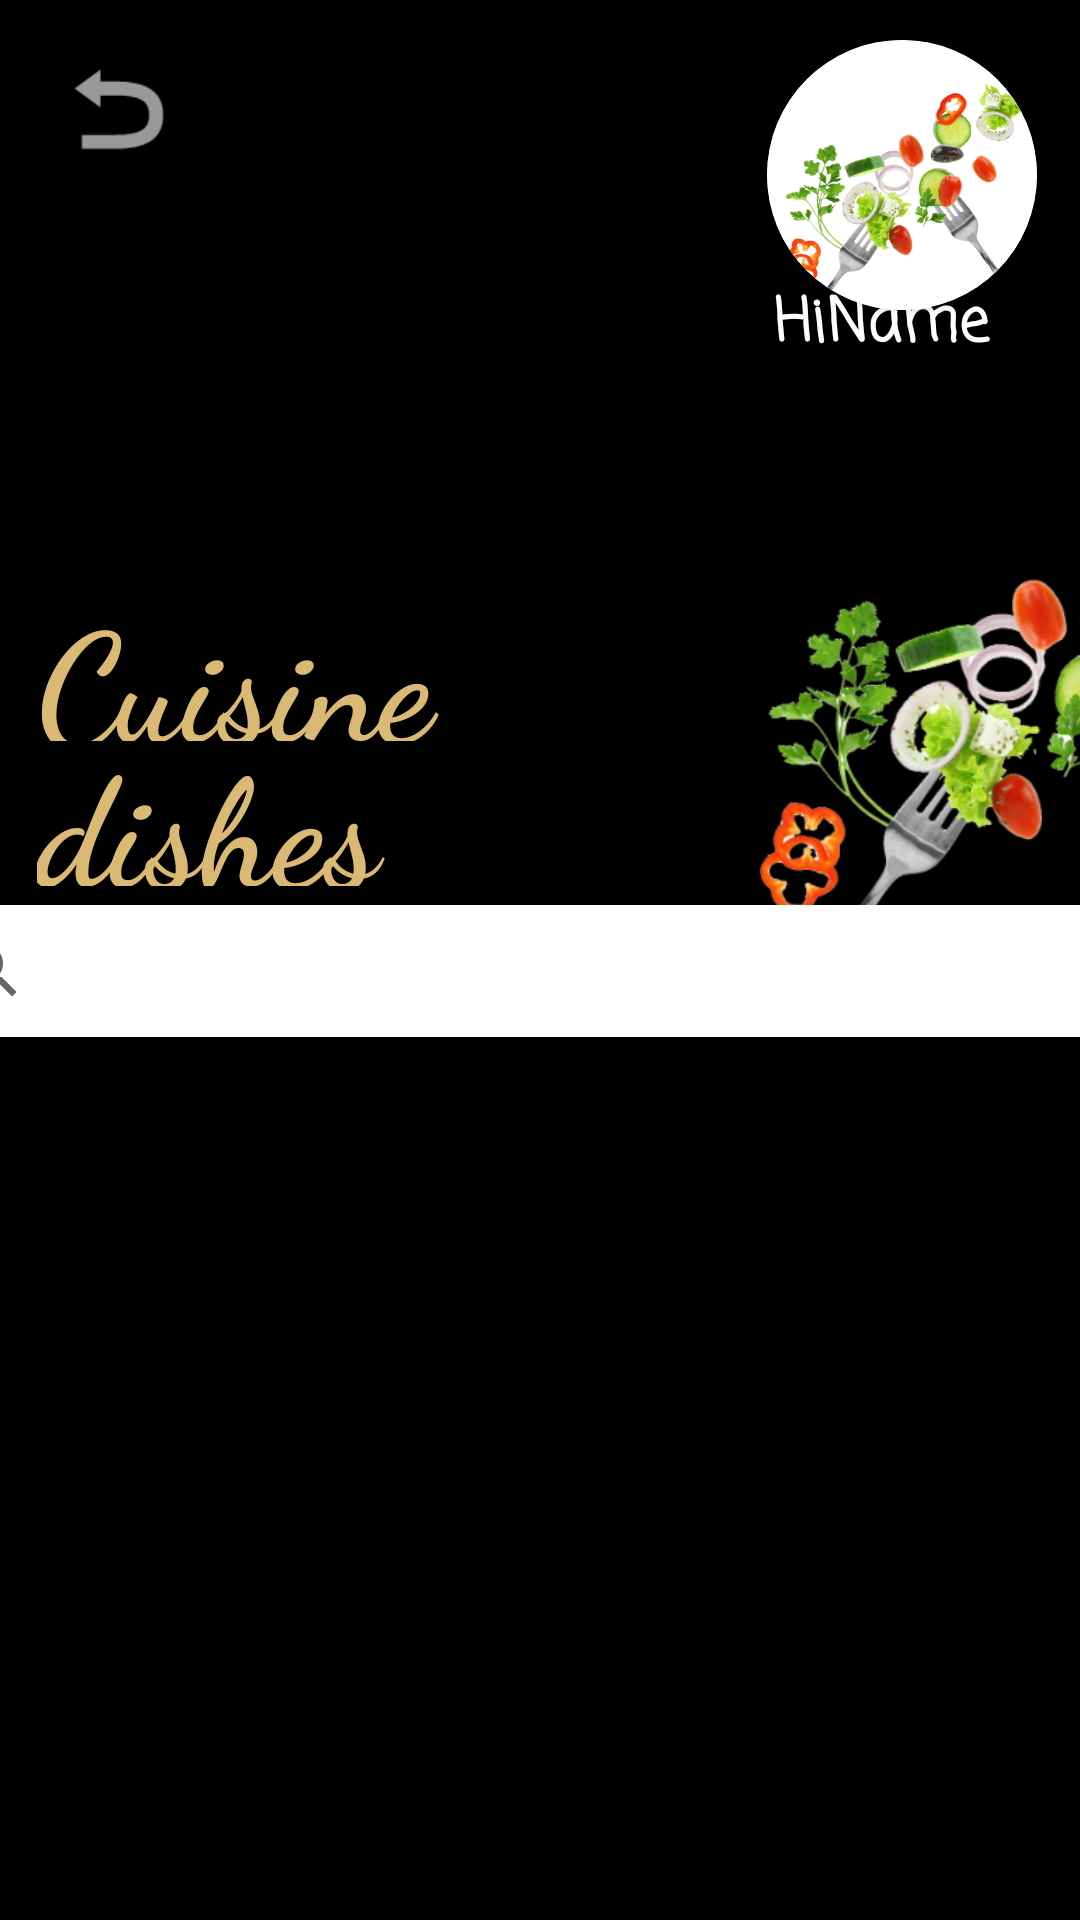

Where to tap for icons on this 1080px x 1920px app screen, as [x,y]:
revert: [119,109]
